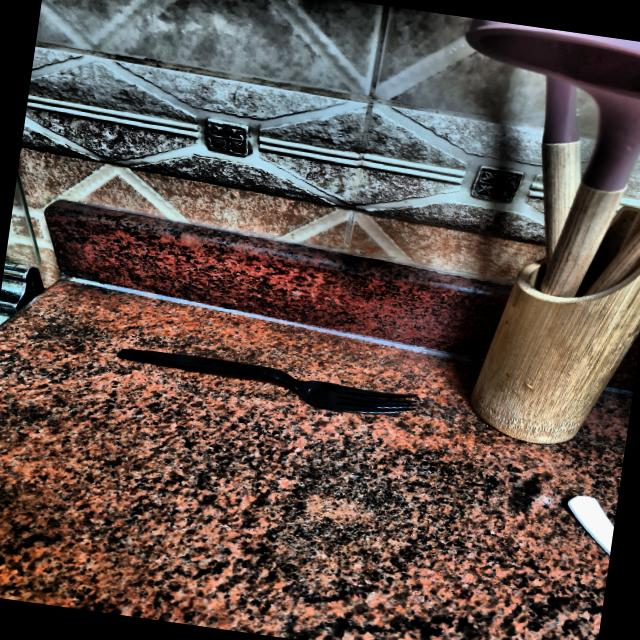plastic utensil: (112, 341, 425, 428)
